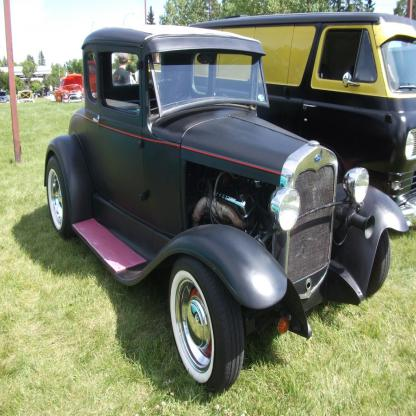Car: (44, 26, 408, 397)
